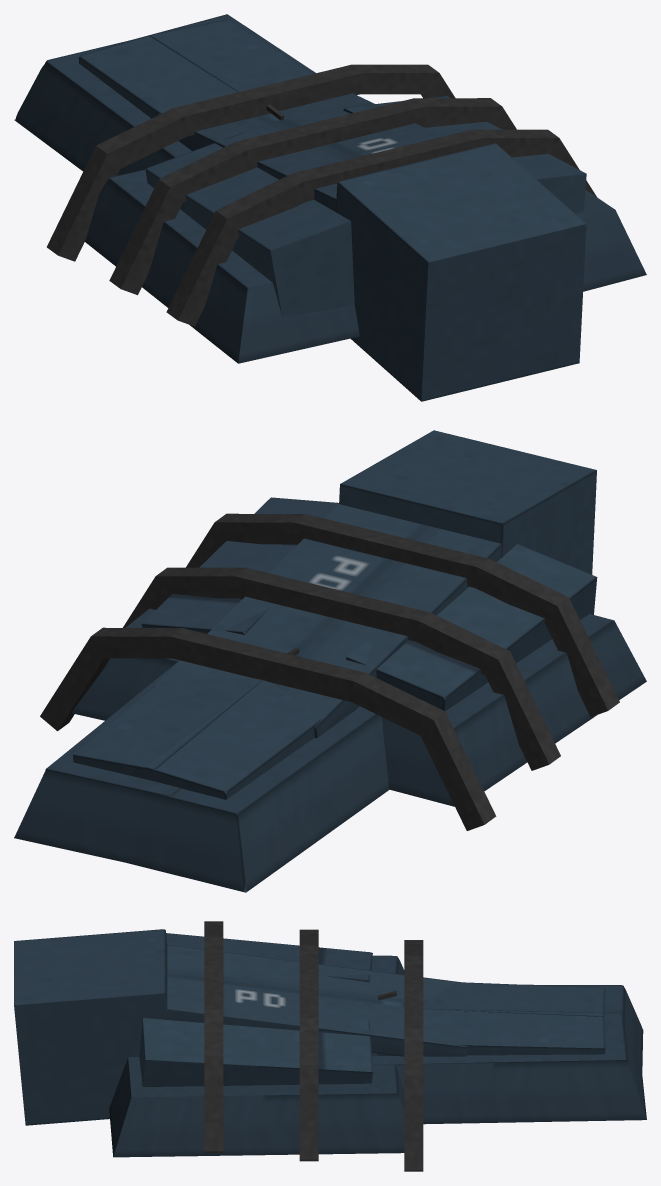
File: body_bag_blue.obj
3 views of the same model, one above another, from view 1: azimuth 30°, elevation 25°; view 2: azimuth 150°, elevation 25°; view 3: azimuth 270°, elevation 25° (orthographic). The views are drawn at different scales.
Parts seen in each view (by area): view 1: baseModel5, baseModel10, baseModel1, baseModel8, baseModel4, baseModel14, baseModel3, baseModel27, baseModel22, baseModel7, baseModel15, baseModel17 (+12 smaller); view 2: baseModel5, baseModel8, baseModel14, baseModel10, baseModel1, baseModel4, baseModel3, baseModel12, baseModel27, baseModel2, baseModel22, baseModel15 (+16 smaller); view 3: baseModel5, baseModel7, baseModel8, baseModel12, baseModel2, baseModel3, baseModel4, baseModel1, baseModel11, baseModel19, baseModel25, baseModel20 (+9 smaller).
Part boxes in pixels (x1,y1,x2,y2): baseModel5: (336,143,586,401); baseModel10: (85,179,359,363); baseModel1: (145,132,354,316); baseModel8: (157,93,442,211); baseModel4: (78,33,241,118); baseModel14: (14,62,173,175); baseModel3: (150,19,311,92); baseModel27: (173,65,362,136); baseModel22: (236,98,425,170); baseModel7: (440,95,646,291); baseModel15: (293,130,482,201); baseModel17: (166,211,242,326); baseModel5: (339,430,596,574); baseModel8: (153,504,501,738); baseModel14: (130,715,389,892); baseModel10: (381,621,646,806); baseModel1: (346,544,597,711); baseModel4: (145,679,321,816); baseModel3: (73,678,262,780); baseModel12: (14,770,144,864); baseModel27: (170,628,365,701); baseModel2: (141,497,338,634); baseModel22: (235,568,430,642); baseModel15: (294,514,488,588); baseModel5: (14,929,167,1125); baseModel7: (109,1057,404,1157); baseModel8: (164,944,467,1056); baseModel12: (396,1023,646,1124); baseModel2: (139,1018,372,1086); baseModel3: (376,1008,605,1055); baseModel4: (423,982,605,1016); baseModel1: (166,933,372,982); baseModel11: (372,1011,626,1064); baseModel19: (204,1056,223,1152); baseModel25: (404,1075,423,1171); baseModel20: (299,1065,318,1161).
Size of the model in its own units: 1.36 by 0.4794 by 2.08.
1 material, 1 textured.
